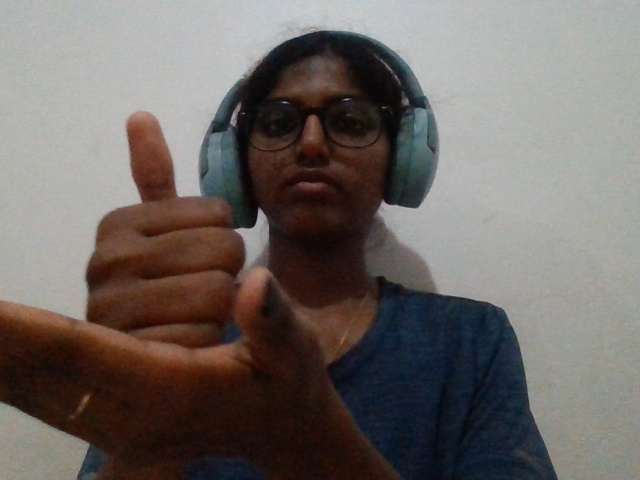Help: (1, 75, 393, 474)
